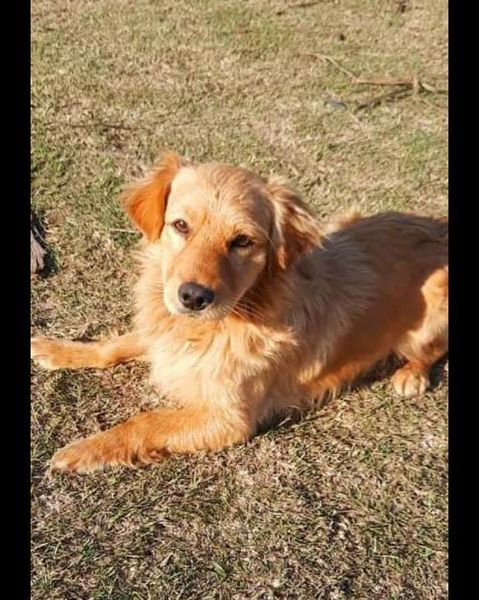dog: (42, 144, 440, 477)
